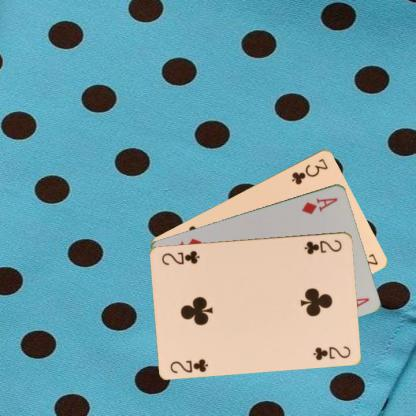2c: (168, 356, 210, 374), (302, 237, 343, 255)
3c: (289, 155, 329, 186)
Ad: (299, 194, 339, 216)
